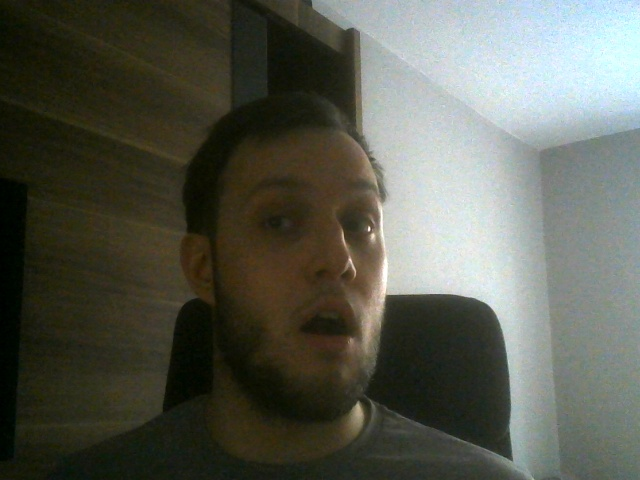surprised: (177, 92, 391, 419)
